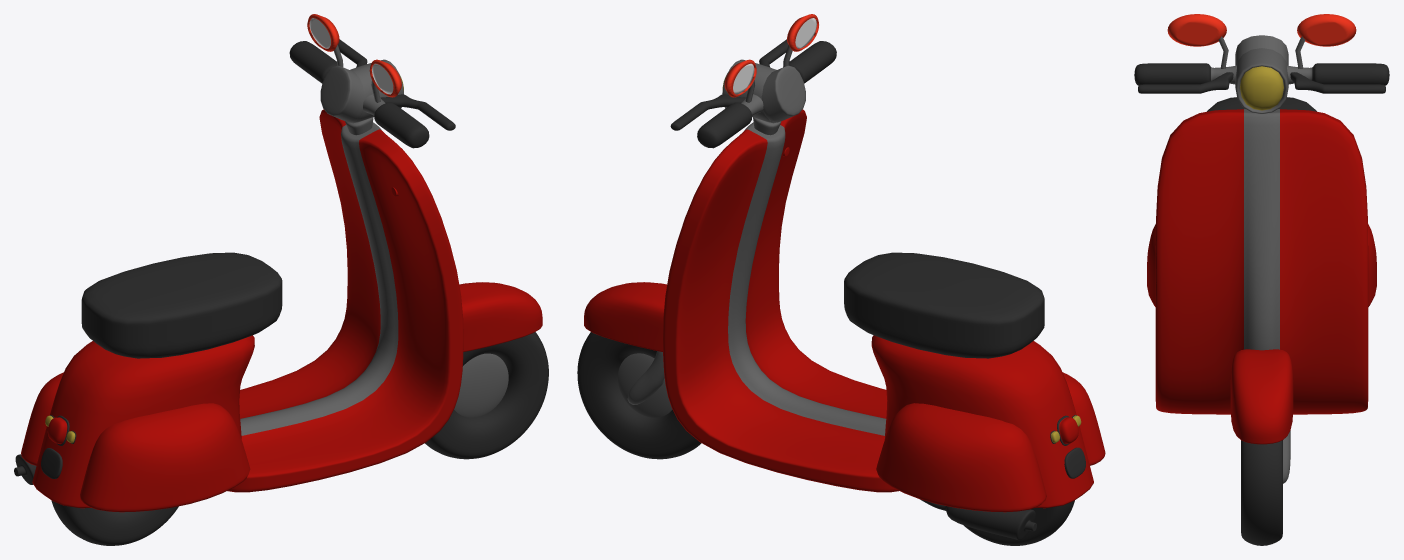
The model's file is Gemastik_BaseMeshMotorcycles1 (1).fbx.
3 renders of one model, left to right at view 1: azimuth 30°, elevation 25°; view 2: azimuth 150°, elevation 25°; view 3: azimuth 270°, elevation 25°, orthographic. The views are drawn at different scales.
Parts seen in each view (by area): view 1: Bike1, Bike1_Wheel1, Bike1_Wheel2, Cube.001, Bike1.002, Bike1.001; view 2: Bike1, Bike1_Wheel1, Cube.001, Bike1_Wheel2, Bike1.001, Bike1.002; view 3: Bike1, Bike1_Wheel1, Cube.001, Bike1.001.
Part boxes in pixels (left/top/right/bottom): Bike1: left=14, top=39, right=542, bottom=512; Bike1_Wheel1: left=425, top=332, right=548, bottom=459; Bike1_Wheel2: left=51, top=500, right=178, bottom=545; Cube.001: left=307, top=14, right=401, bottom=102; Bike1.002: left=45, top=415, right=76, bottom=445; Bike1.001: left=350, top=59, right=403, bottom=123; Bike1: left=584, top=39, right=1105, bottom=540; Bike1_Wheel1: left=577, top=332, right=701, bottom=459; Cube.001: left=724, top=14, right=818, bottom=102; Bike1_Wheel2: left=963, top=500, right=1074, bottom=545; Bike1.001: left=722, top=59, right=776, bottom=123; Bike1.002: left=1050, top=415, right=1081, bottom=445; Bike1: left=1134, top=35, right=1389, bottom=483; Bike1_Wheel1: left=1241, top=440, right=1282, bottom=545; Cube.001: left=1167, top=14, right=1356, bottom=68; Bike1.001: left=1235, top=48, right=1288, bottom=113.
Size of the model in its own units: 565 by 480 by 240.
